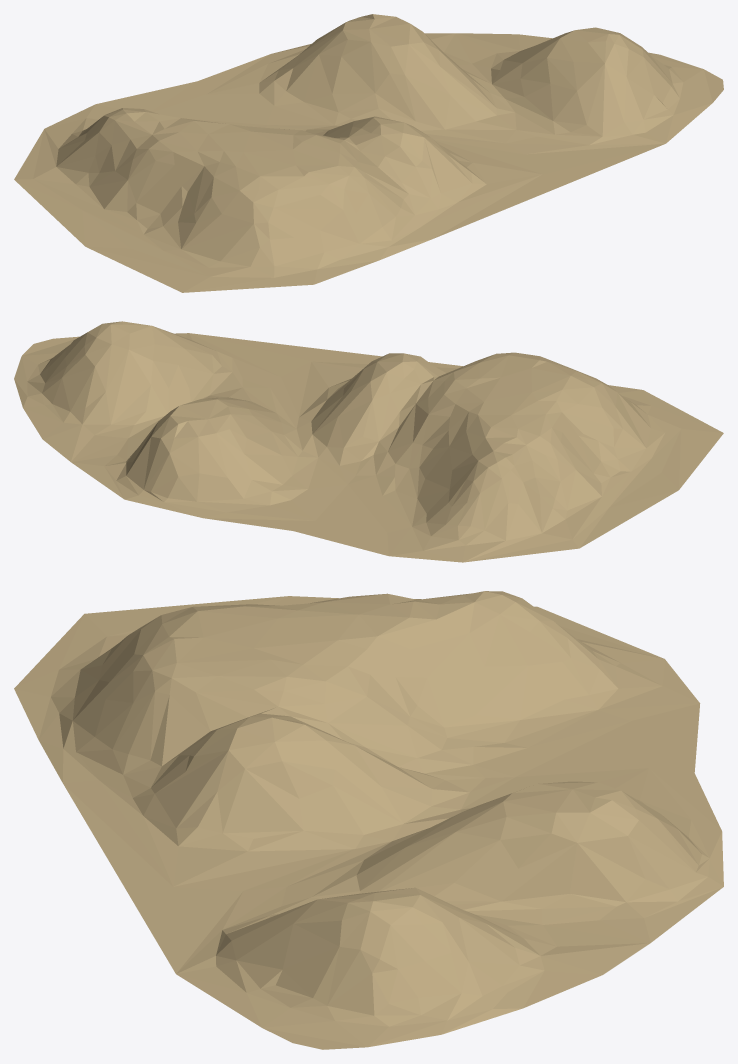
File: SM_Env_Beach_04.glb
3 renders of one model, top to bottom at view 1: azimuth 30°, elevation 25°; view 2: azimuth 150°, elevation 25°; view 3: azimuth 270°, elevation 25°, orthographic. The views are drawn at different scales.
Parts seen in each view (by area): view 1: SM_Env_Beach_04_part00; view 2: SM_Env_Beach_04_part00; view 3: SM_Env_Beach_04_part00.
Part boxes in pixels (x1,y1,x2,y2): SM_Env_Beach_04_part00: [14, 14, 723, 292]; SM_Env_Beach_04_part00: [14, 321, 723, 562]; SM_Env_Beach_04_part00: [14, 591, 723, 1049].
Size of the model in its own units: 28.55 by 2.51 by 18.88.
Materials: 1 (1 with a texture image).
